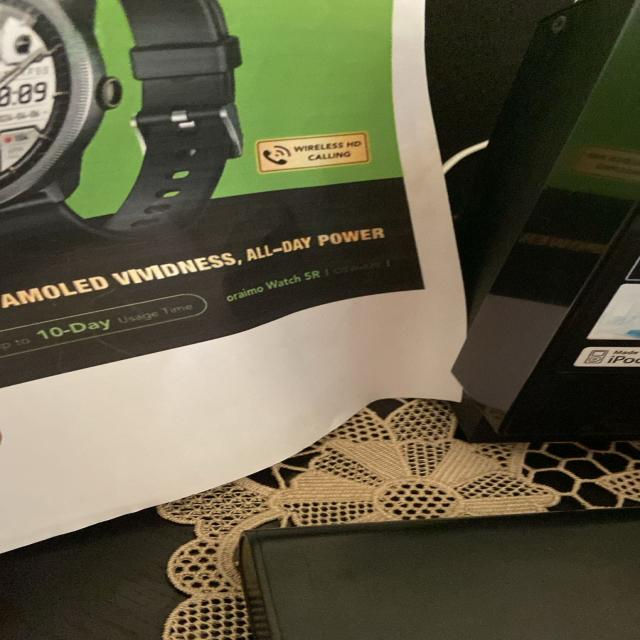Oraimo Watch 5R OSW-820: (218, 256, 400, 308)
